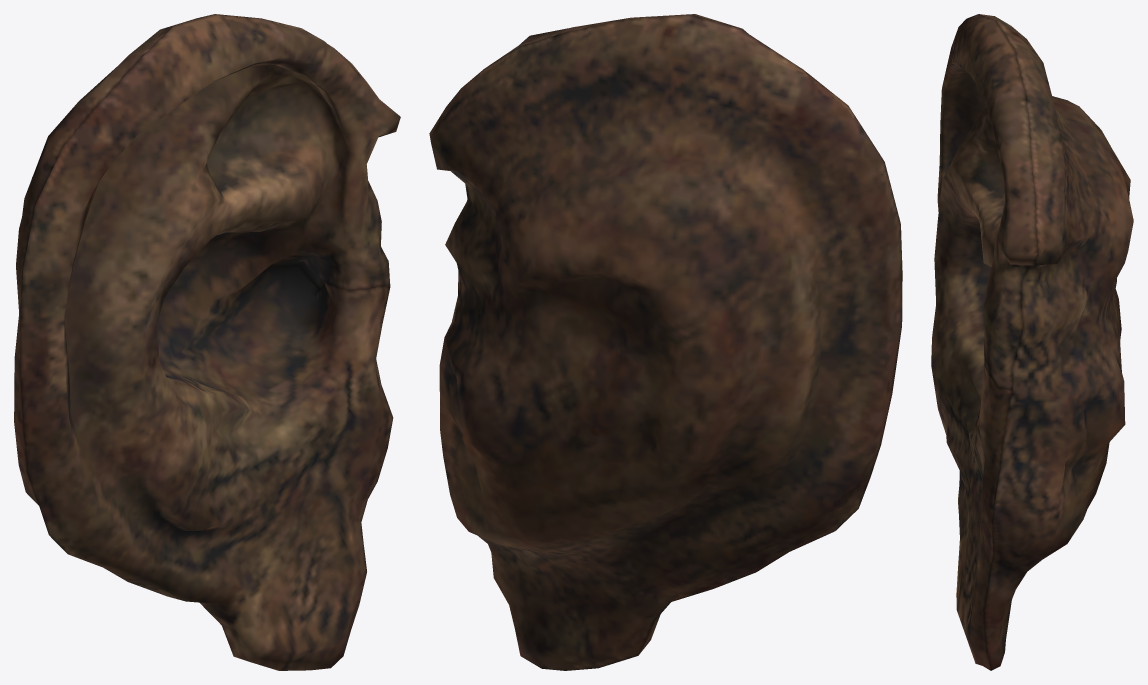
Rendered from mummified_ear.DAE.
The picture shows the model from 3 angles, left to right: view 1: azimuth 30°, elevation 25°; view 2: azimuth 150°, elevation 25°; view 3: azimuth 270°, elevation 25°; orthographic projection. The views are drawn at different scales.
Parts seen in each view (by area): view 1: mummified_ear; view 2: mummified_ear; view 3: mummified_ear.
Part boxes in pixels (x1,y1,x2,y2): mummified_ear: (14, 14, 400, 670); mummified_ear: (429, 14, 902, 670); mummified_ear: (931, 14, 1133, 670).
Size of the model in its own units: 0.098 by 0.0477 by 0.1523.
